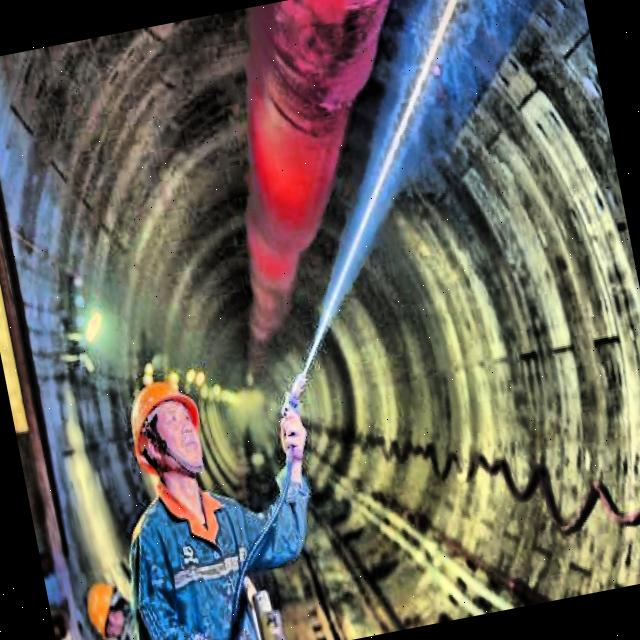helmet: (115, 358, 226, 510), (81, 572, 138, 640)
